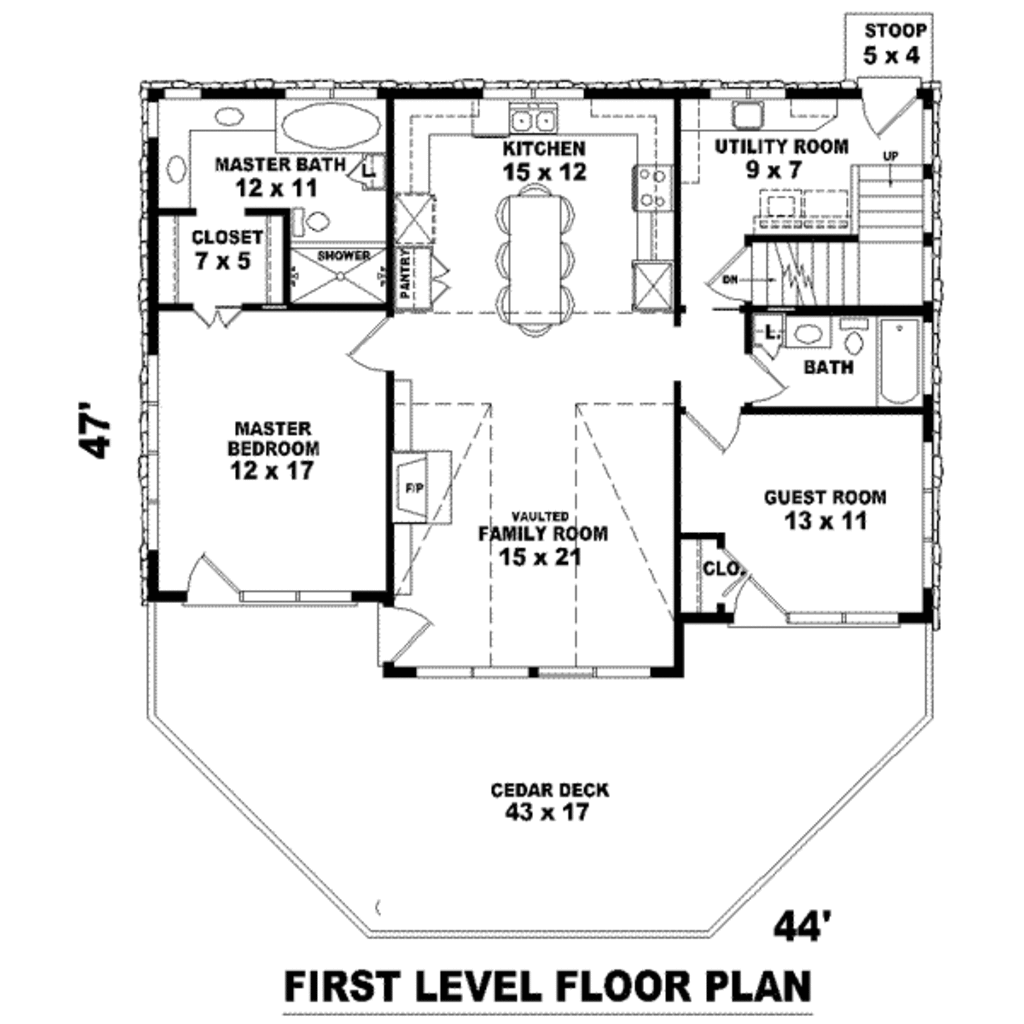dining_table: (485, 165, 590, 349)
door: (179, 544, 242, 617), (344, 308, 411, 376), (734, 568, 801, 635), (685, 392, 741, 458), (380, 598, 431, 668), (861, 87, 922, 141), (742, 346, 785, 401), (192, 306, 250, 332), (434, 252, 457, 311)
large_sink: (838, 306, 876, 358), (290, 203, 331, 241)
sink: (728, 98, 784, 143)
small_sink: (182, 92, 253, 133), (785, 311, 838, 358), (150, 149, 190, 203)
stairs: (747, 236, 933, 314), (847, 152, 931, 312)
tub: (268, 92, 385, 160), (879, 308, 925, 411)
twin_sink: (507, 85, 577, 143)
window: (915, 438, 941, 585), (785, 601, 903, 632), (142, 346, 160, 546), (528, 662, 603, 679)
